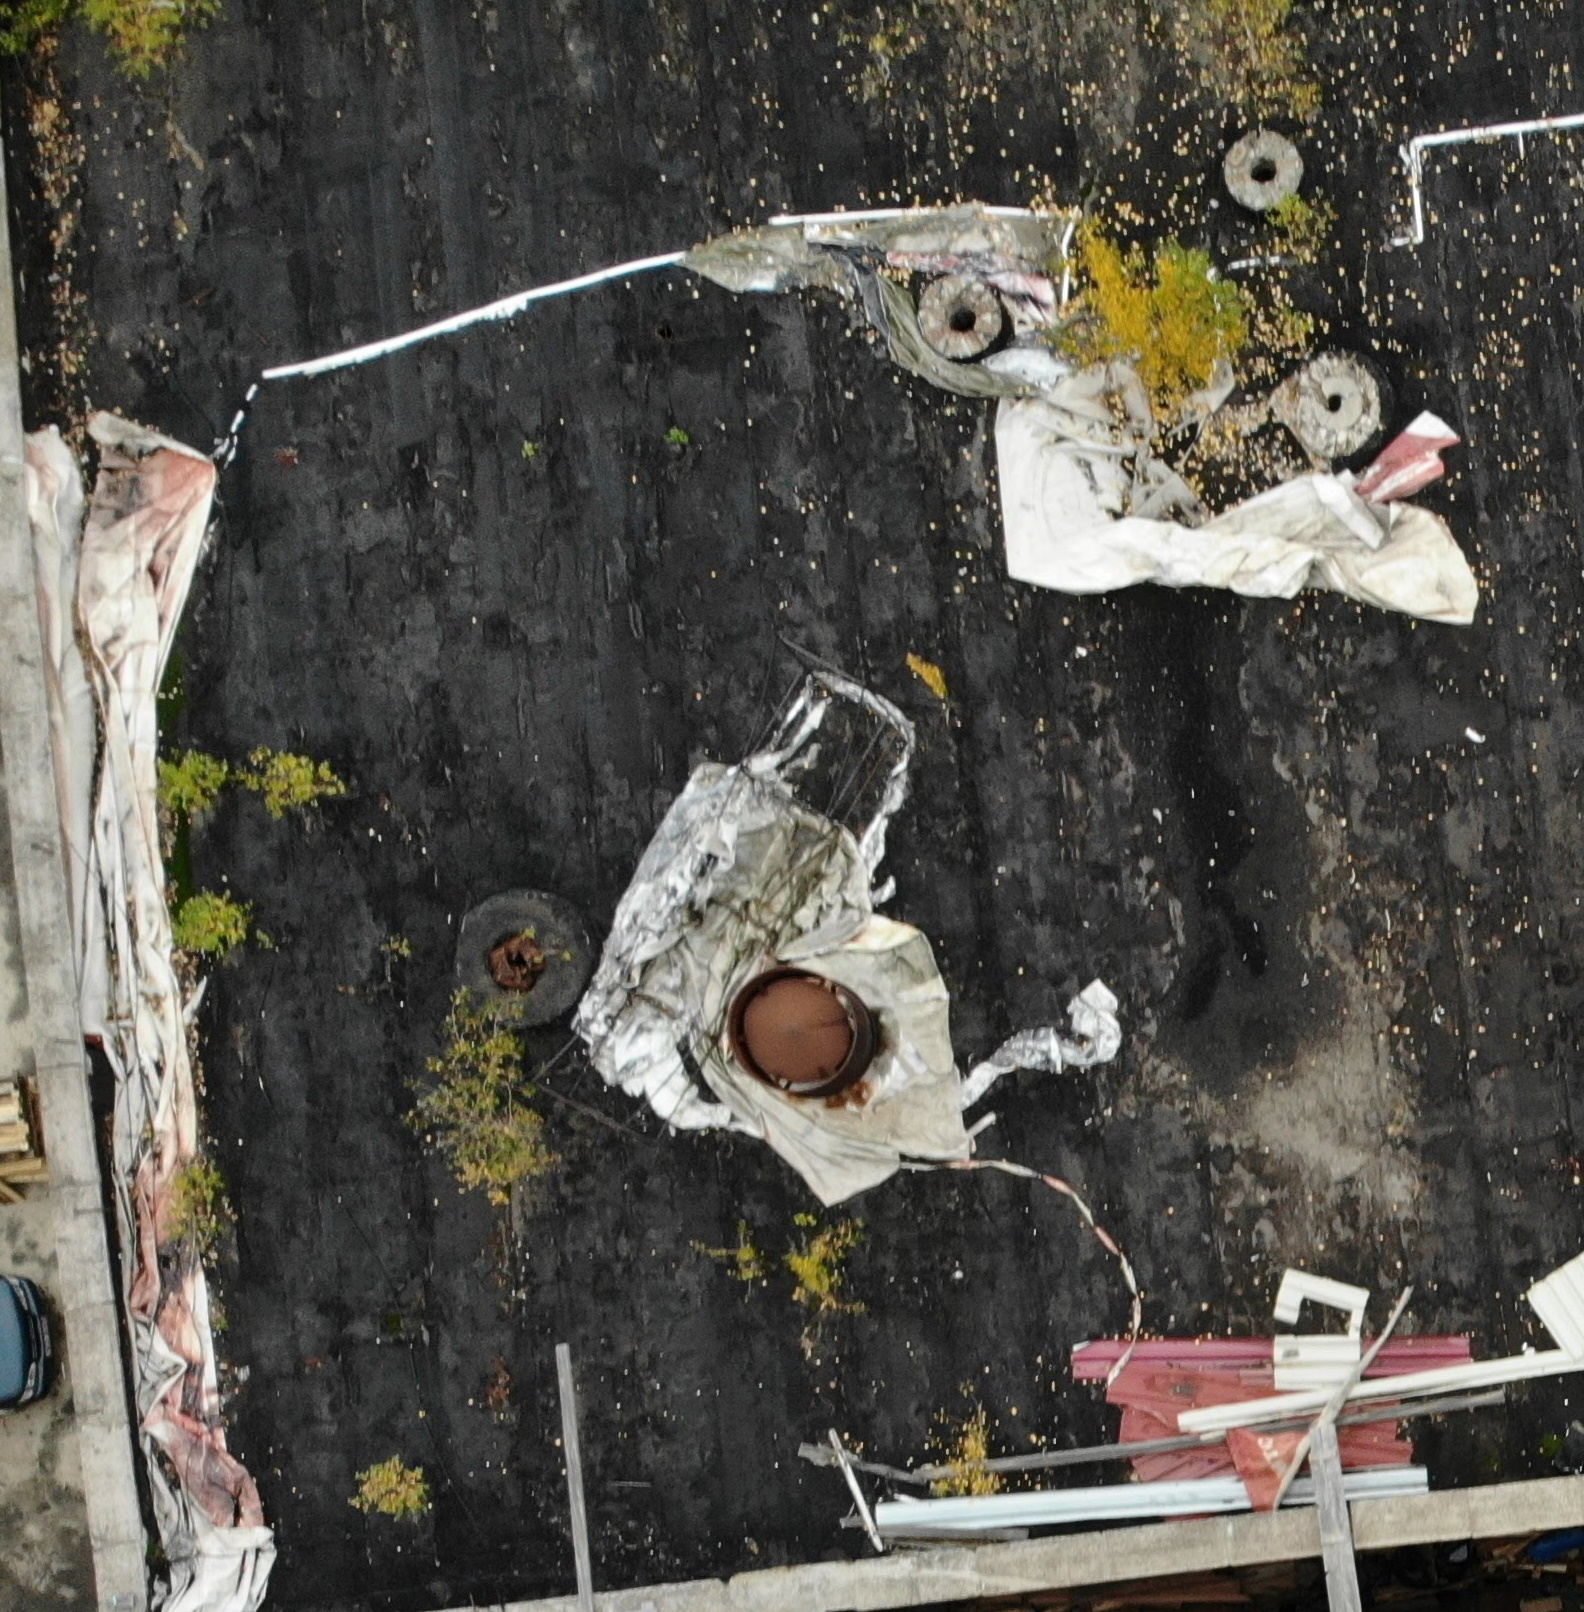tree: (1036, 193, 1287, 456), (405, 976, 580, 1216), (1175, 16, 1352, 149), (764, 1201, 892, 1354), (144, 863, 292, 982), (331, 1429, 469, 1553), (231, 712, 352, 850), (145, 1152, 257, 1281), (907, 1399, 1026, 1513), (149, 736, 235, 850)
